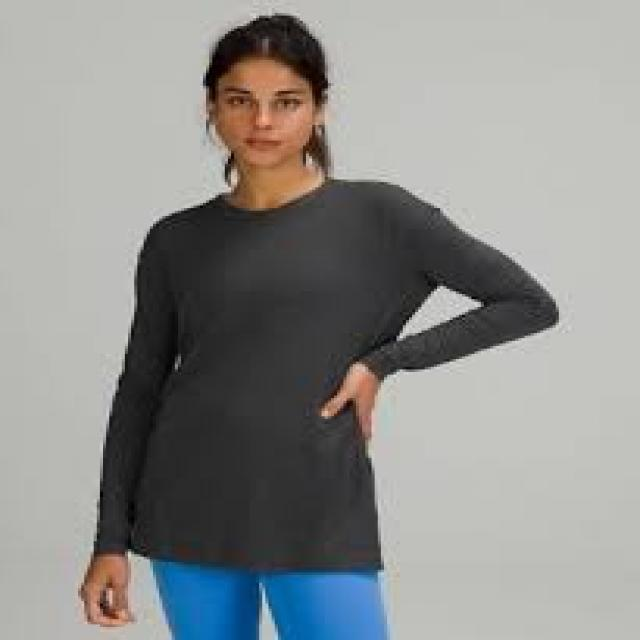plain: (97, 143, 568, 577)
